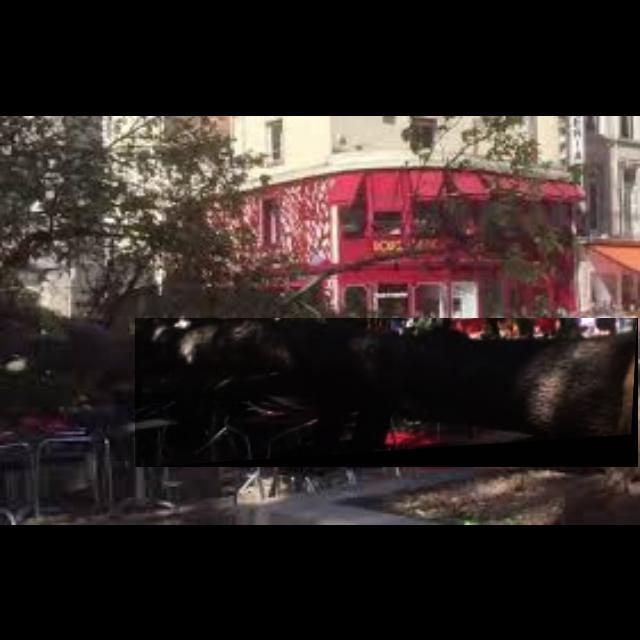fallen_tree: (135, 318, 639, 468)
